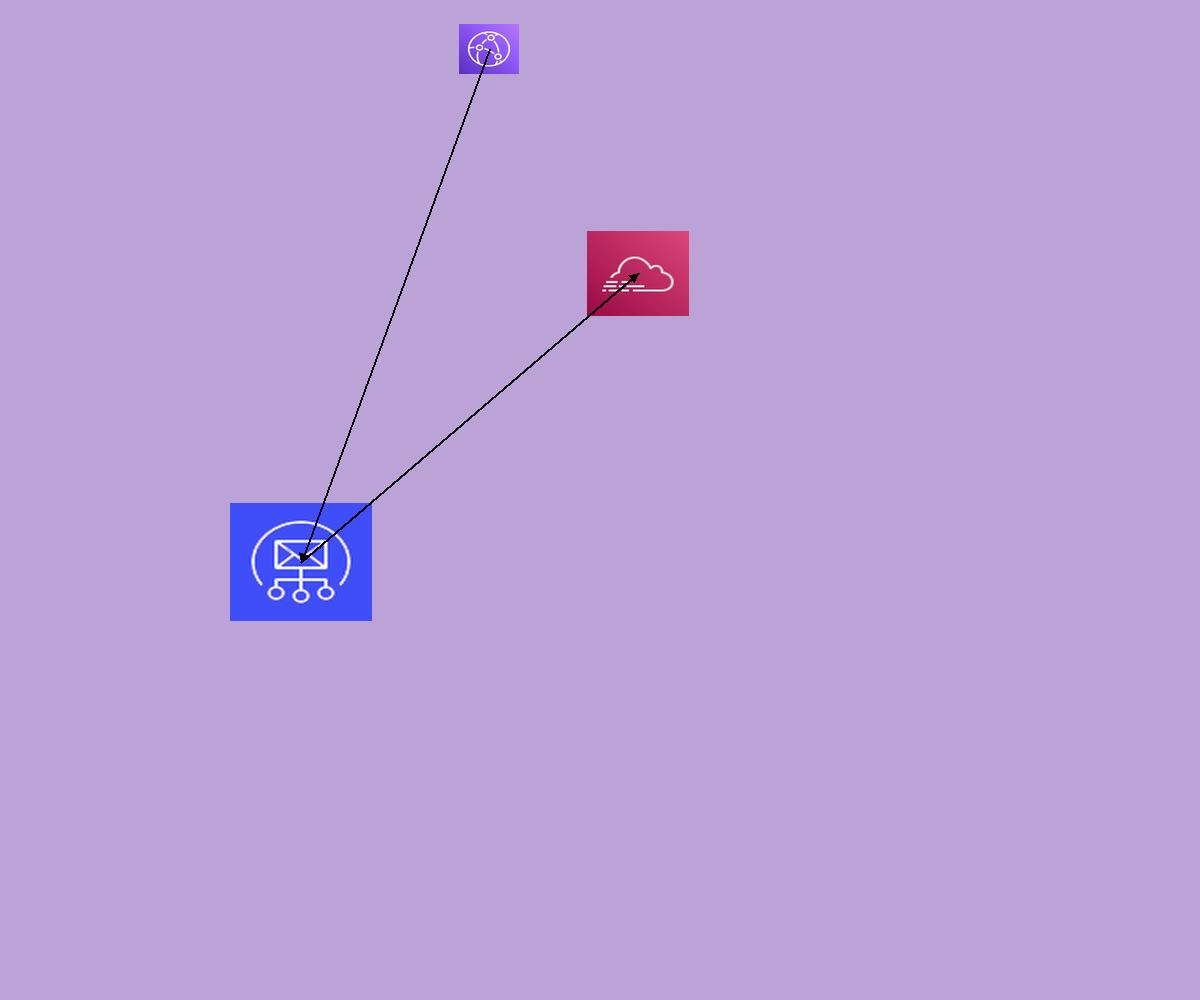AWS-CloudFront: (459, 24, 519, 74)
AWS-CloudTrail: (587, 231, 689, 316)
AWS-Simple-Email-Service: (230, 503, 372, 621)
